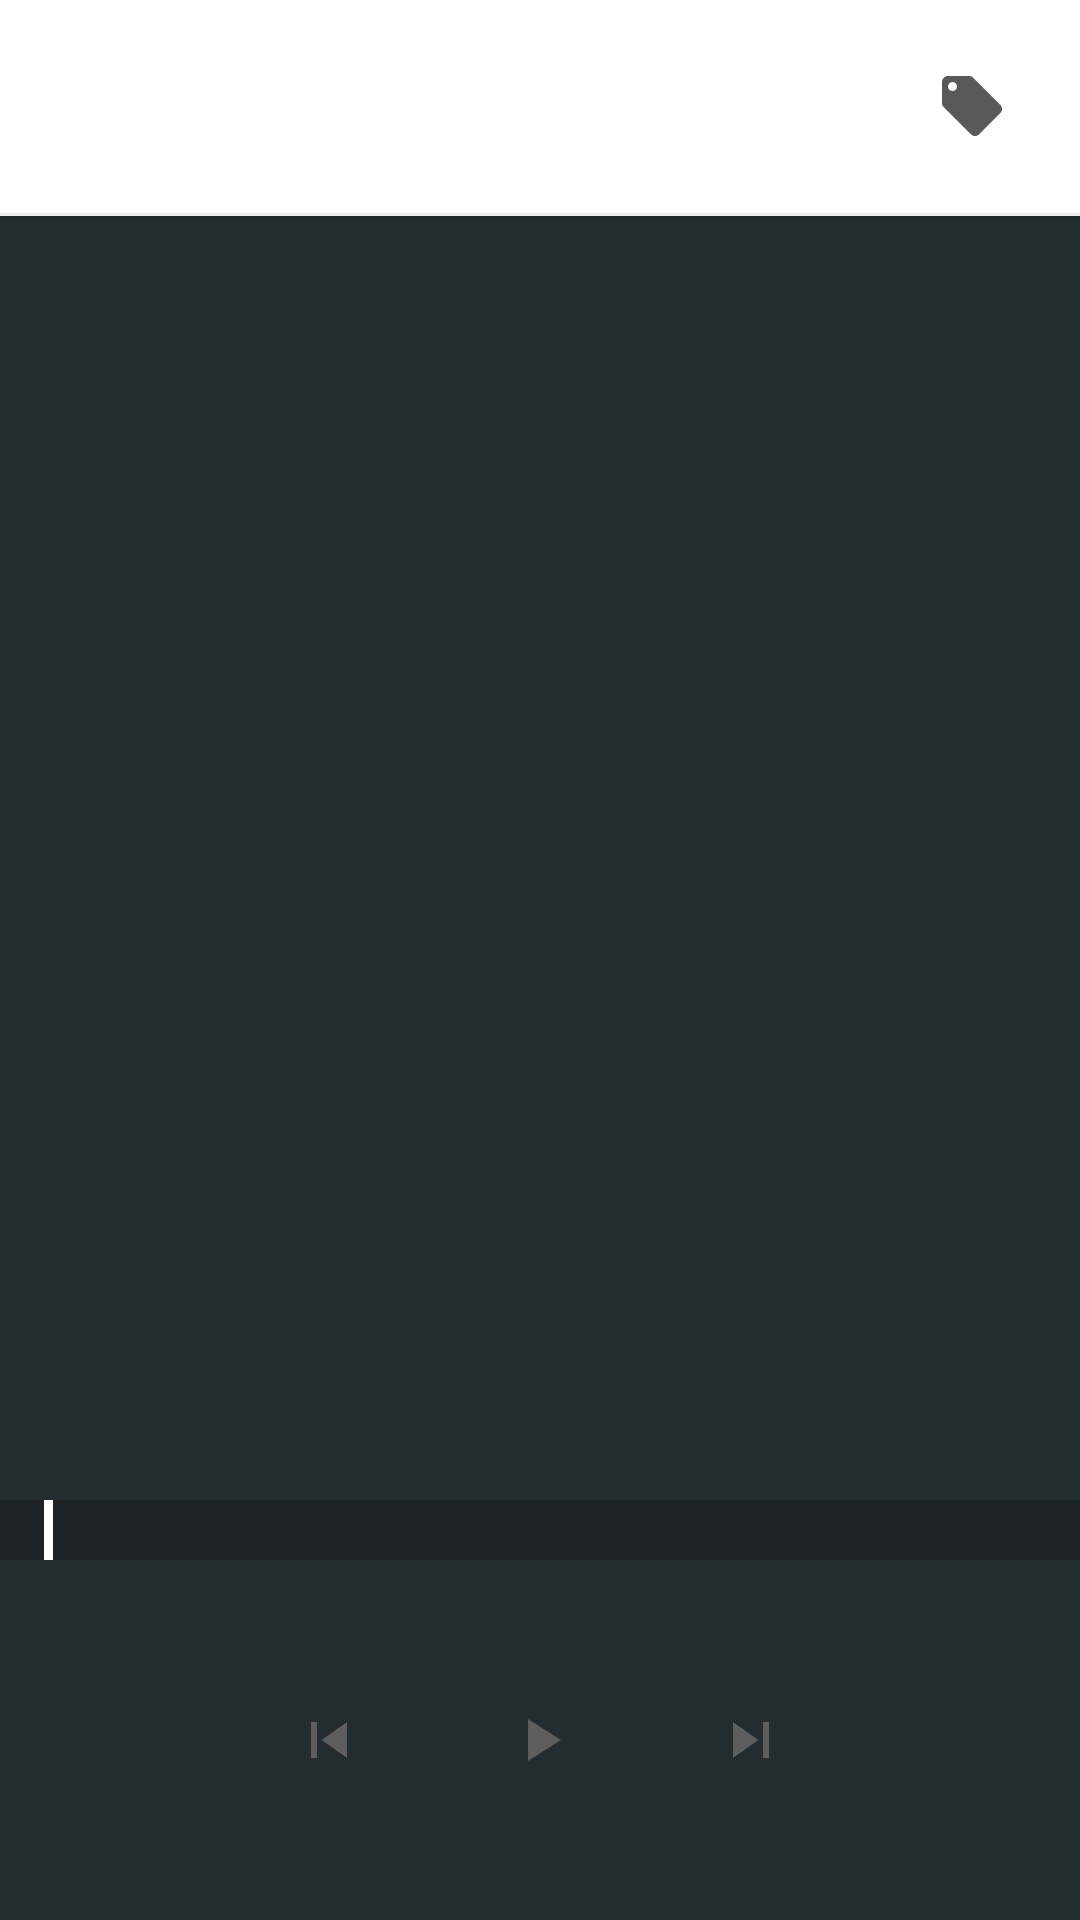

Icon click points for this 1080px x 1920px phone screenshot, format [x,y]:
next: [751,1740]
play: [544,1740]
previous: [329,1740]
tag: [972,106]
